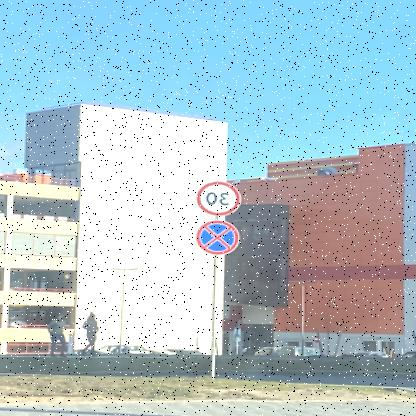speedlimit: (198, 180, 244, 216)
